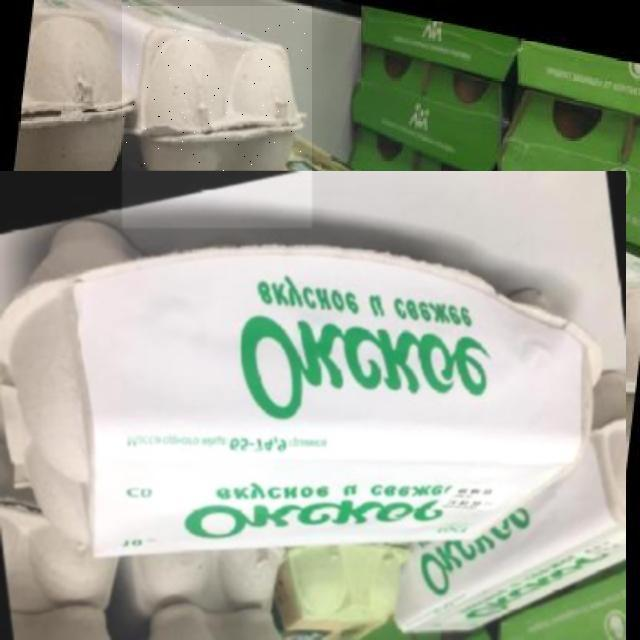Eggs: (0, 171, 626, 640), (122, 6, 312, 228)
